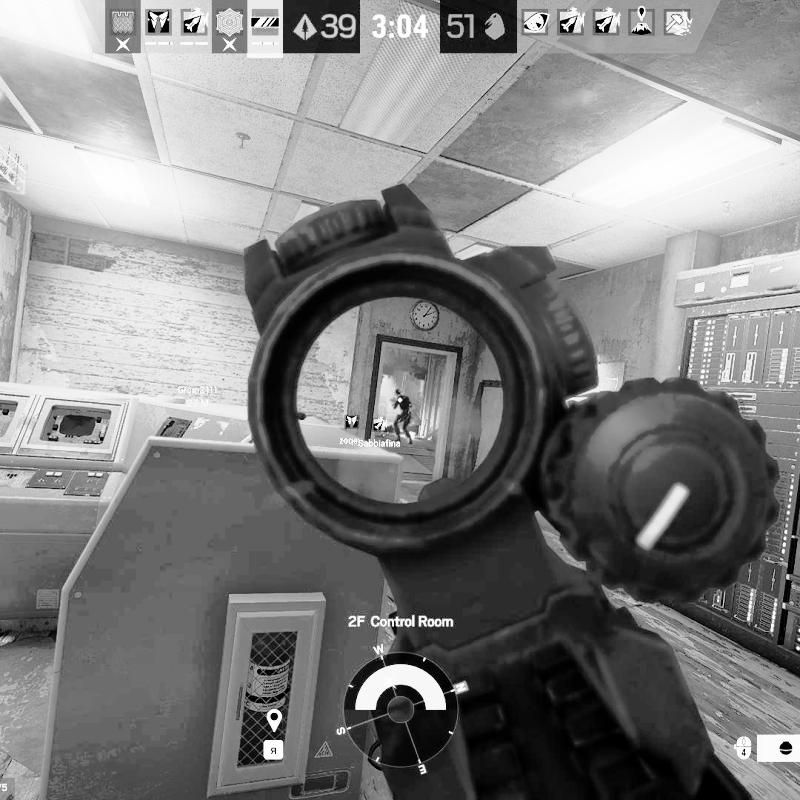Character: (392, 388, 415, 446)
Friend_label: (358, 415, 402, 449), (338, 415, 365, 445)
Head: (395, 388, 401, 396)
